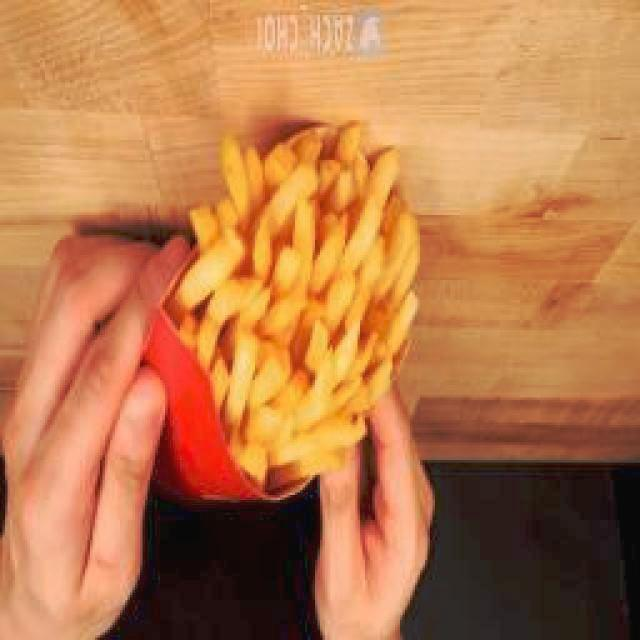french fries: (176, 121, 422, 481)
